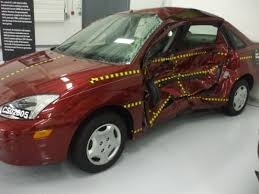Broken-glass: (105, 14, 163, 61)
Smashed: (143, 26, 233, 126)
